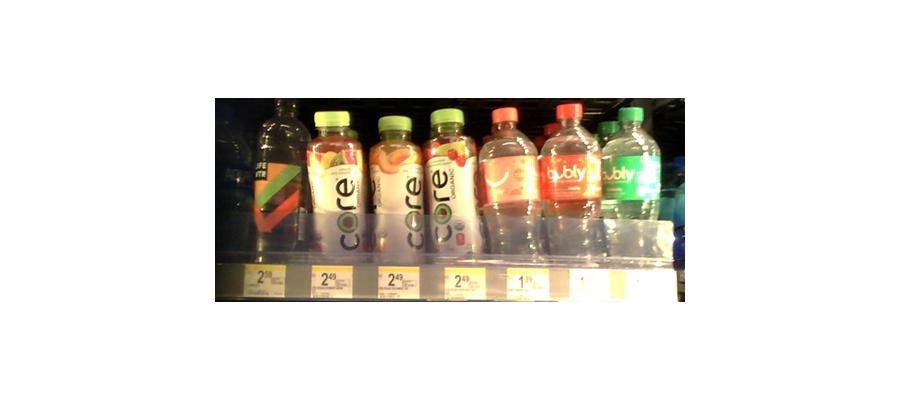bottle: (598, 104, 664, 264), (541, 101, 600, 267), (480, 107, 542, 264), (308, 108, 368, 258), (424, 108, 480, 264), (368, 114, 425, 266), (253, 94, 305, 258)
